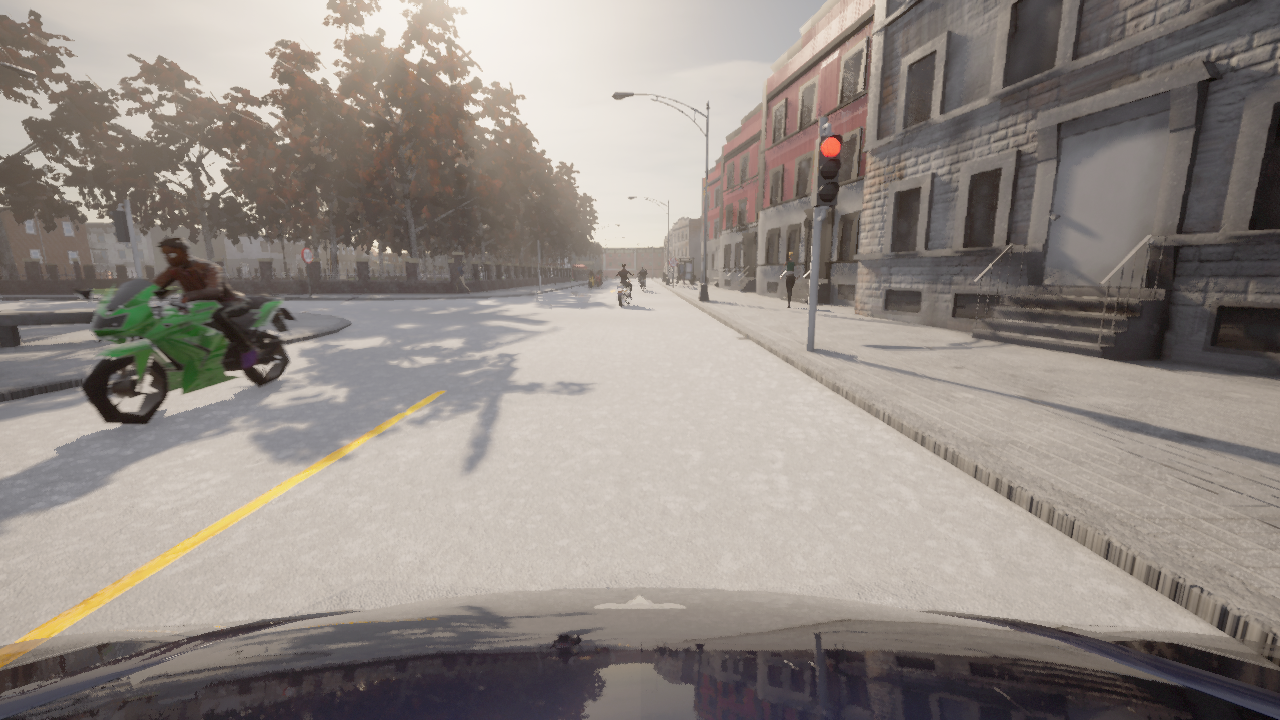cyclist: (0, 588, 1279, 719), (71, 277, 298, 424), (615, 275, 634, 306), (589, 274, 595, 288), (595, 274, 601, 286), (600, 275, 603, 284), (642, 279, 644, 290)
pedestrian: (781, 251, 799, 307), (453, 260, 472, 294)
